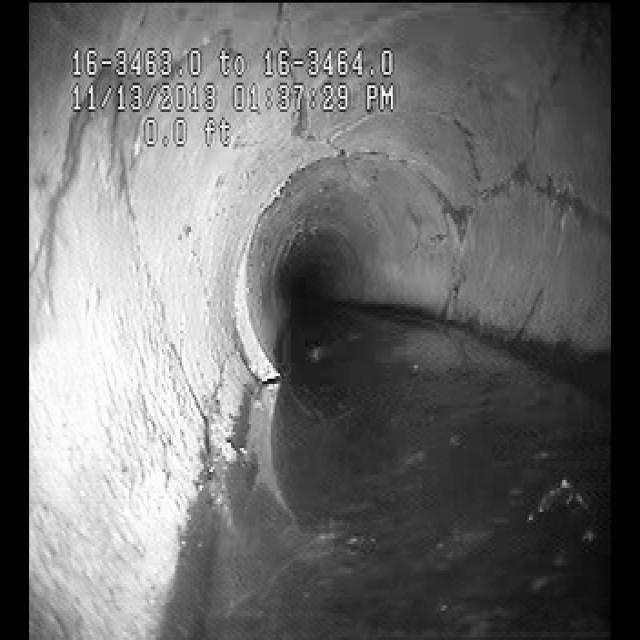Fracture: (110, 168, 247, 464), (418, 58, 596, 274)
